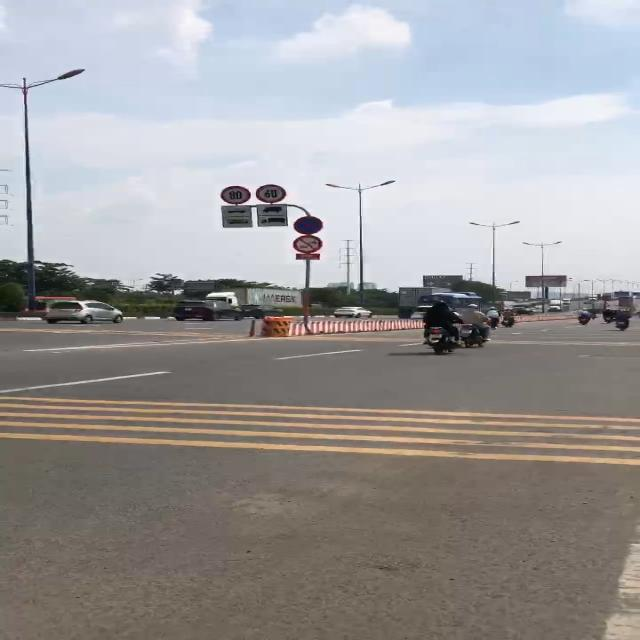Bien bao toc do toi da cho phep: (255, 184, 291, 204), (218, 185, 252, 205)
